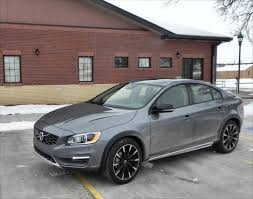car: (31, 77, 245, 183)
